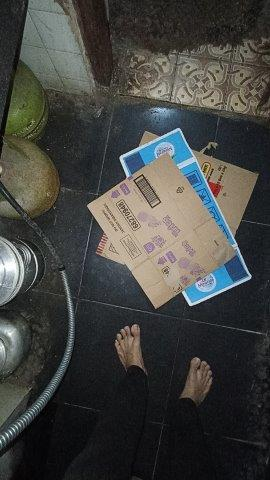kardus: (88, 129, 257, 307)
